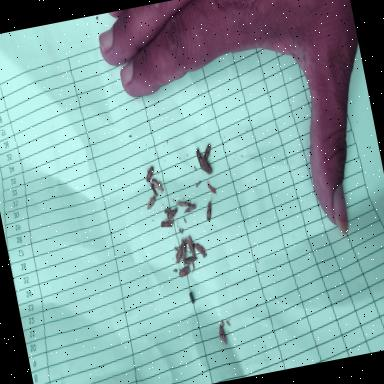pbw: (193, 138, 206, 170), (179, 238, 189, 262), (144, 165, 157, 183), (182, 254, 198, 268), (176, 196, 192, 210), (218, 324, 228, 346), (186, 236, 196, 258), (202, 143, 214, 161), (144, 195, 158, 210), (195, 243, 207, 260), (160, 216, 174, 230), (178, 265, 192, 279), (151, 177, 163, 193), (166, 207, 180, 220), (149, 180, 159, 198), (182, 204, 197, 214), (164, 207, 172, 214)
